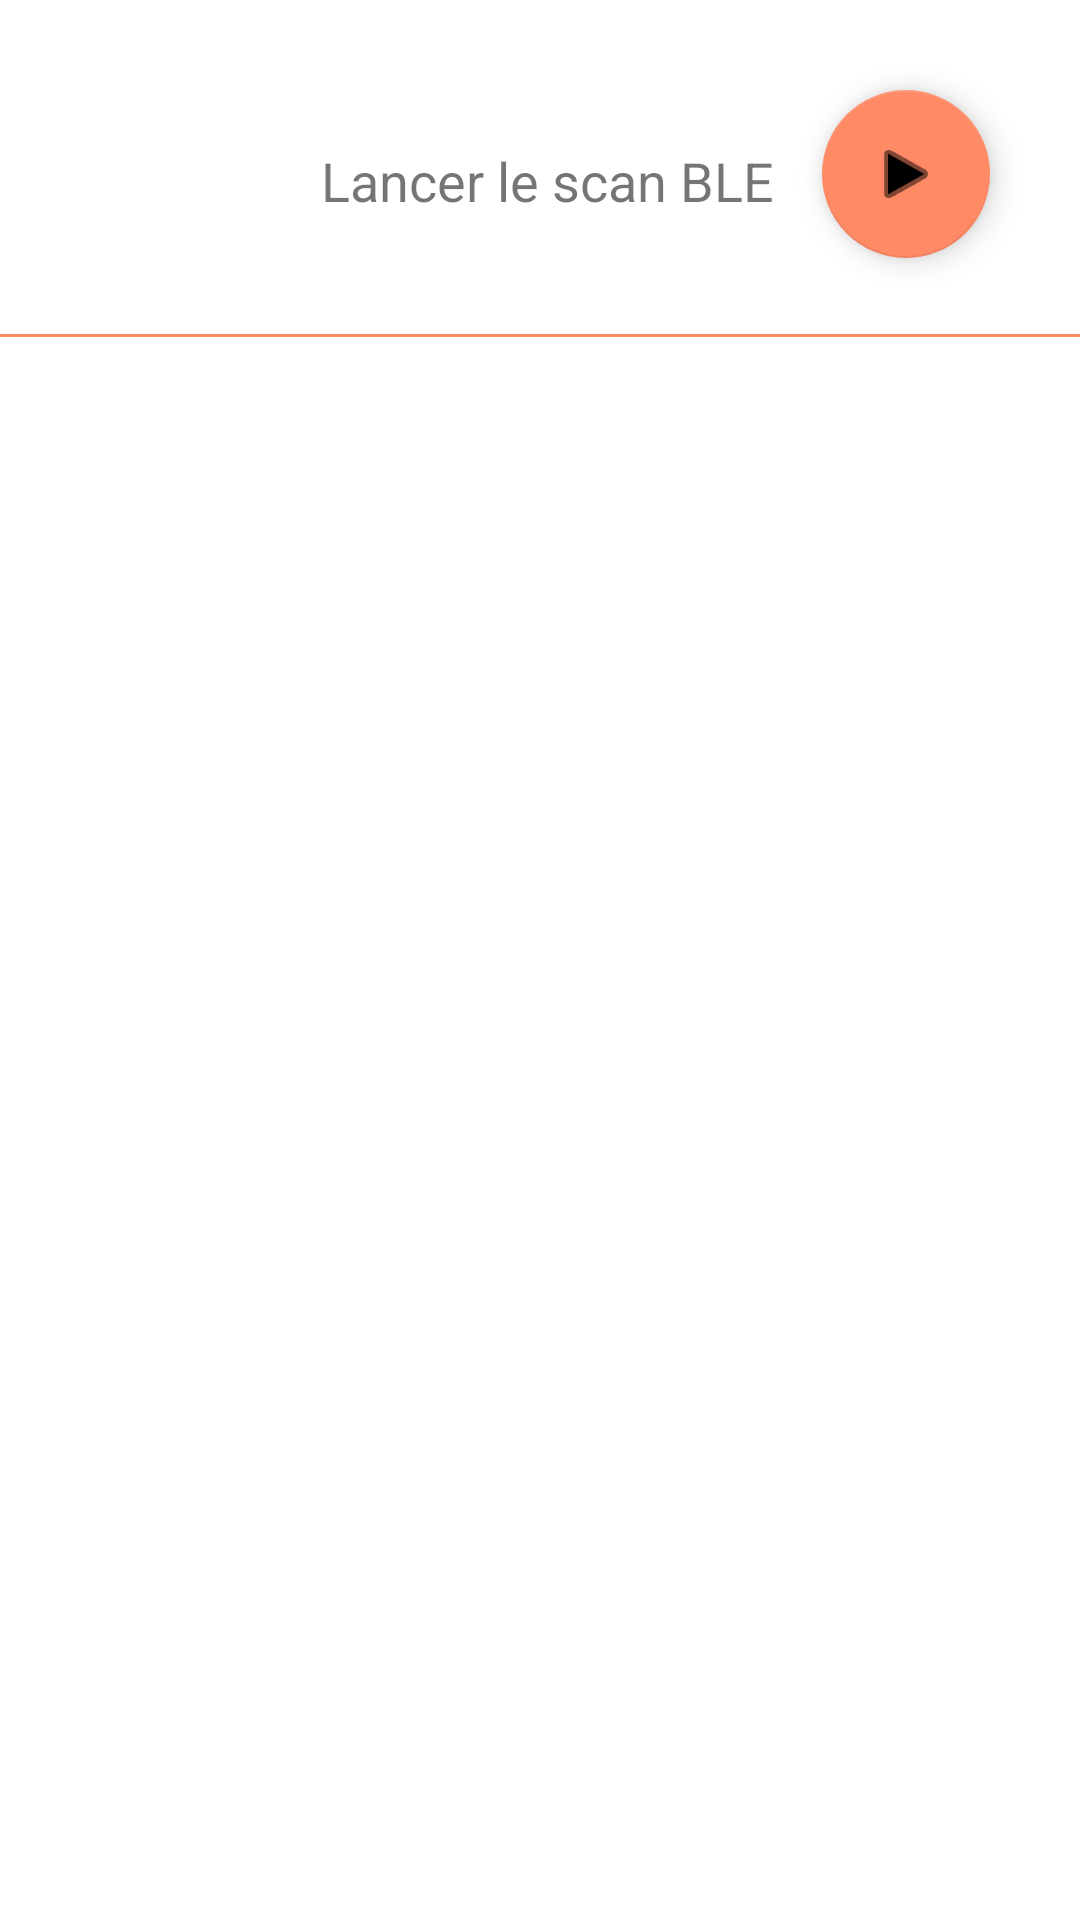

Icons on this 1080px×1920px Android screen, each with the point to tap as (x,y):
play: (906,174)
